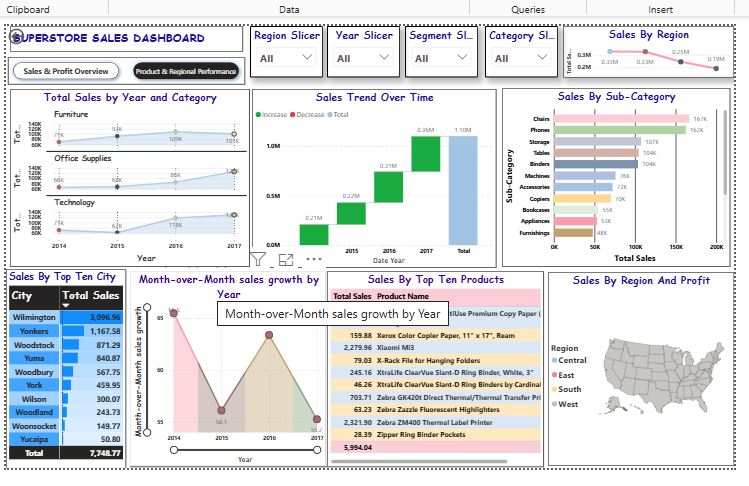

This screenshot's page, from the dashboard's own definition file:
{"tool":"powerbi","page":{"name":"Product & Regional Performance","canvas":[1400,850],"ordinal":1},"visuals":[{"type":"barChart","title":" Sales By Sub-Category","fields":{"Category":["Orders.Sub-Category"],"Y":["measures_table.Total Sales"]},"box":[953.5,119.4,439.1,343.6],"z":0},{"type":"slicer","title":"Region Slicer ","fields":{"Values":["Orders.Region"]},"box":[468.5,0,139.6,99.2],"z":1000},{"type":"slicer","title":"Segment Slicer","fields":{"Values":["Orders.Segment"]},"box":[768,0,139.6,99.2],"z":2000},{"type":"pageNavigator","box":[3.7,58.8,455.6,53.3],"z":3000},{"type":"map","title":" Sales By Region And Profit","fields":{"Category":["Orders.Region"],"Series":["Orders.Profit"]},"box":[1041.7,474,358.3,373],"z":5000},{"type":"waterfallChart","title":"Sales Trend Over Time","fields":{"Category":["calendar.Date.Variation.Date Hierarchy.Year","calendar.Date.Variation.Date Hierarchy.Quarter","calendar.Date.Variation.Date Hierarchy.Month","calendar.Date.Variation.Date Hierarchy.Day"],"Y":["Sum(Orders.Sales)"]},"box":[474,121.3,470.3,343.6],"z":6001},{"type":"lineChart","title":" Sales By Region","fields":{"Category":["People.Region"],"Y":["measures_table.Total Sales"]},"box":[1071.1,0,328.9,99.2],"z":6003},{"type":"slicer","title":"Year Slicer ","fields":{"Values":["calendar.Date.Variation.Date Hierarchy.Year"]},"box":[617.3,0,139.6,99.2],"z":6004},{"type":"slicer","title":"Category Slicer ","fields":{"Values":["Orders.Category"]},"box":[920.5,0,139.6,99.2],"z":6005},{"type":"textbox","box":[7.3,0,448.3,49.6],"z":6007},{"type":"pivotTable","title":"Sales By Top Ten City ","fields":{"Values":["measures_table.Total Sales"],"Rows":["Orders.City"]},"box":[0,466.7,231.5,384],"z":6008},{"type":"areaChart","fields":{"Category":["calendar.Date.Variation.Date Hierarchy.Year","calendar.Date.Variation.Date Hierarchy.Month"],"Y":["measures_table.Month-over-Month sales growth"]},"box":[238.8,470.3,378.5,376.6],"z":6011},{"type":"tableEx","title":"Sales By Top Ten Products","fields":{"Values":["measures_table.Total Sales","Orders.Product Name"]},"box":[617.3,470.3,417.1,376.6],"z":6012},{"type":"lineChart","fields":{"Category":["calendar.Date.Variation.Date Hierarchy.Year","calendar.Date.Variation.Date Hierarchy.Quarter","calendar.Date.Variation.Date Hierarchy.Month","calendar.Date.Variation.Date Hierarchy.Day"],"Y":["measures_table.Total Sales"],"Rows":["Orders.Category"]},"box":[7.3,121.3,461.2,341.7],"z":6013},{"type":"actionButton","box":[0,0,100,40],"z":6014}]}

Visuals, with their boxes in screenshot pixels (x1, y1, x2, y2):
" Sales By Sub-Category" barChart: [501, 84, 733, 266]
"Region Slicer " slicer: [245, 21, 319, 74]
"Segment Slicer" slicer: [403, 21, 477, 74]
pageNavigator: [0, 52, 240, 81]
" Sales By Region And Profit" map: [548, 272, 737, 468]
"Sales Trend Over Time" waterfallChart: [248, 85, 496, 267]
" Sales By Region" lineChart: [563, 21, 737, 74]
"Year Slicer " slicer: [324, 21, 397, 74]
"Category Slicer " slicer: [484, 21, 557, 74]
textbox: [2, 21, 238, 48]
"Sales By Top Ten City " pivotTable: [0, 268, 120, 470]
areaChart - calendar.Date.Variation.Date Hierarchy.Year x calendar.Date.Variation.Date Hierarchy.Month: [124, 270, 324, 468]
"Sales By Top Ten Products" tableEx: [324, 270, 544, 468]
lineChart - calendar.Date.Variation.Date Hierarchy.Year x calendar.Date.Variation.Date Hierarchy.Quarter: [2, 85, 245, 266]
actionButton: [0, 21, 51, 43]
